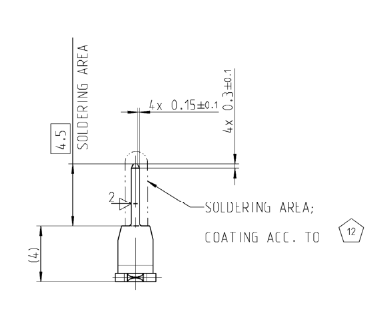falcon_r2: (219, 66, 238, 144), (145, 97, 219, 113)
